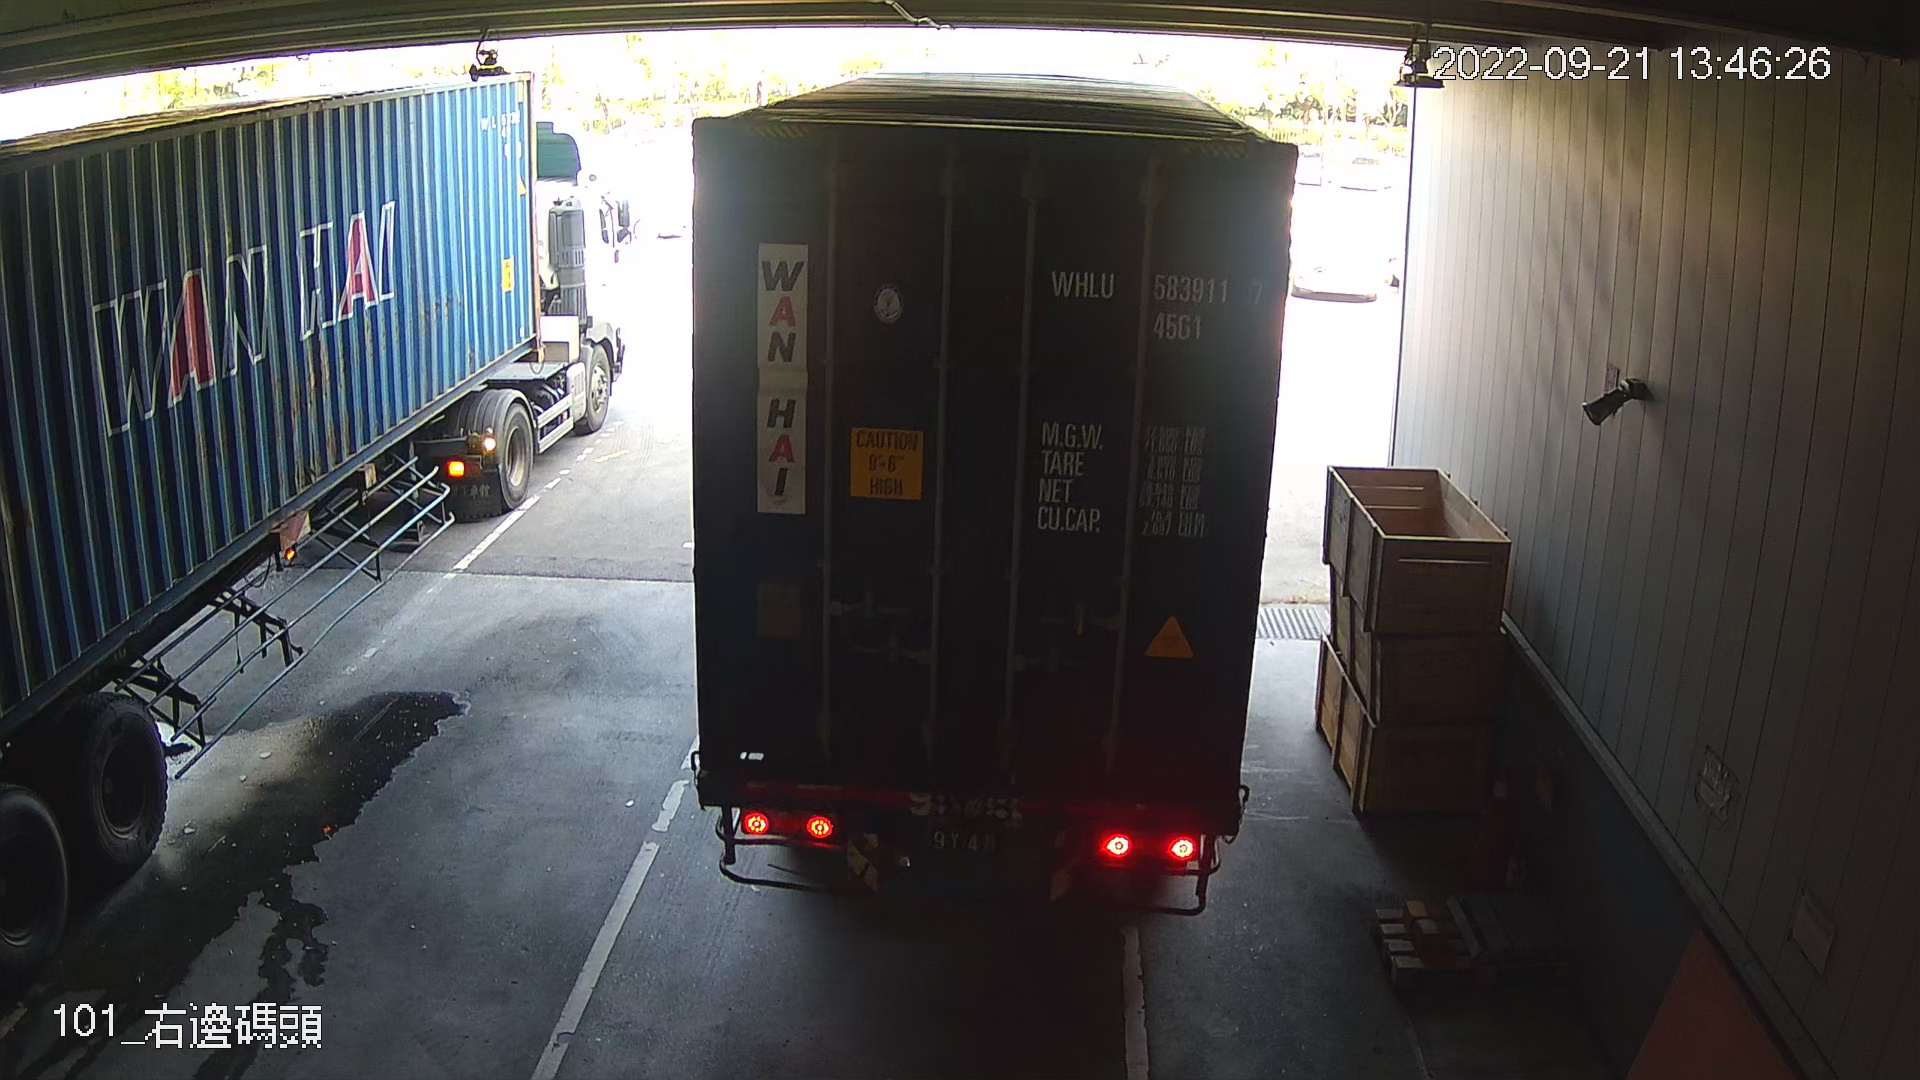container: (1038, 261, 1273, 348)
